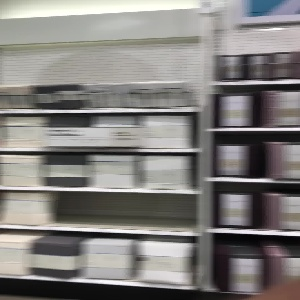void: (54, 193, 198, 230)
